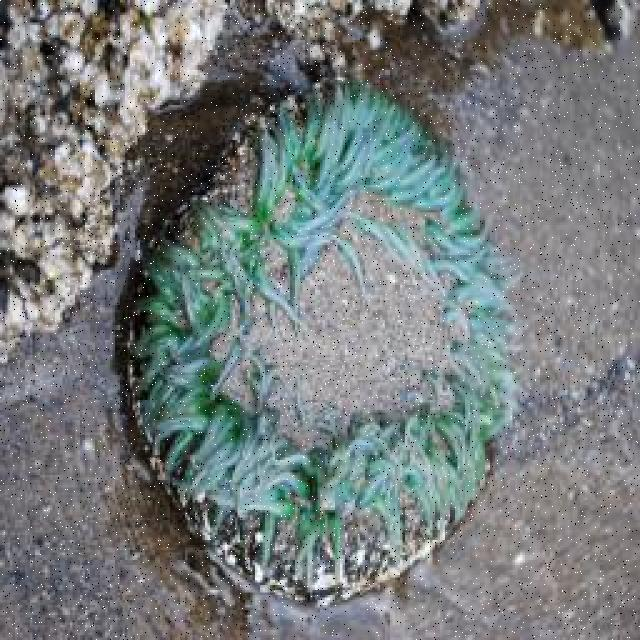reefs: (128, 72, 527, 611)
